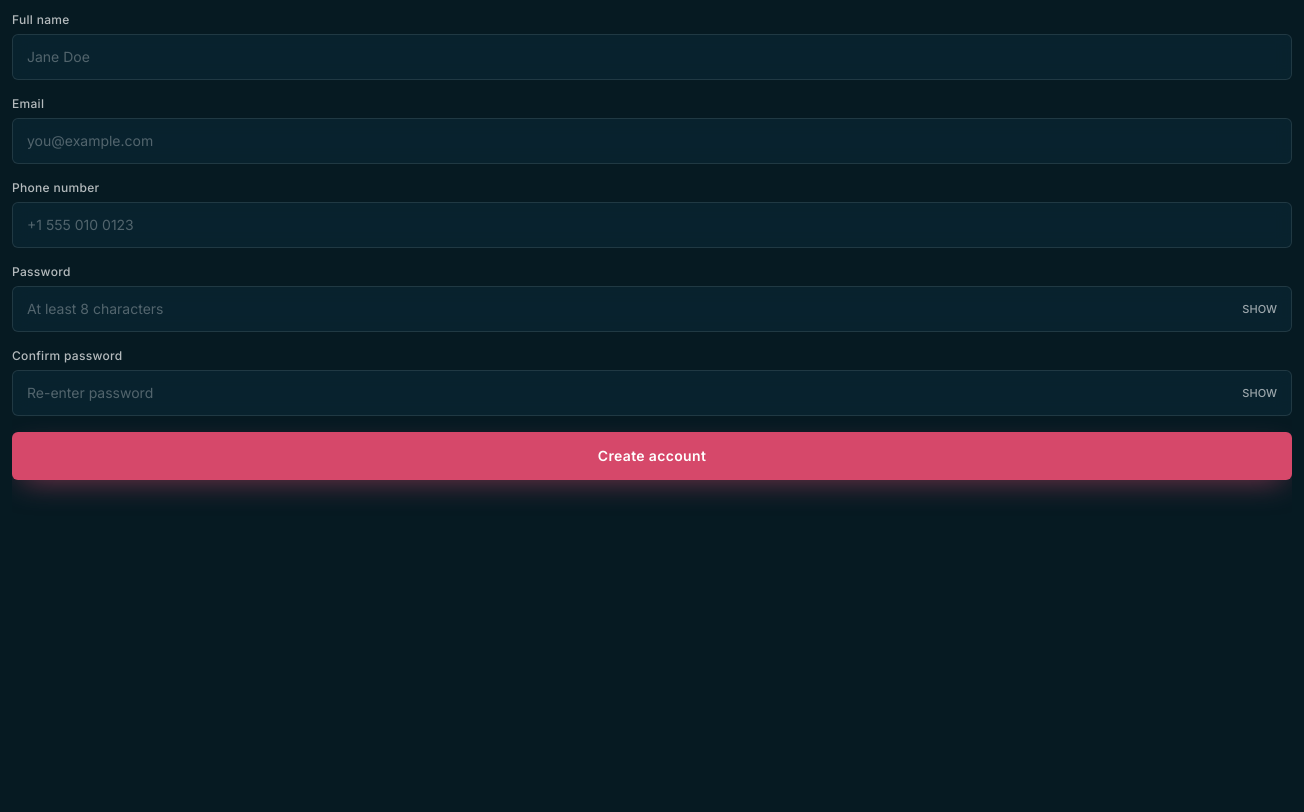
SignUpForm › shows validation errors when submitted with empty fields
Click the button "Create account". click: (652, 456)
box: top-left (12, 432), bottom-right (1292, 480)
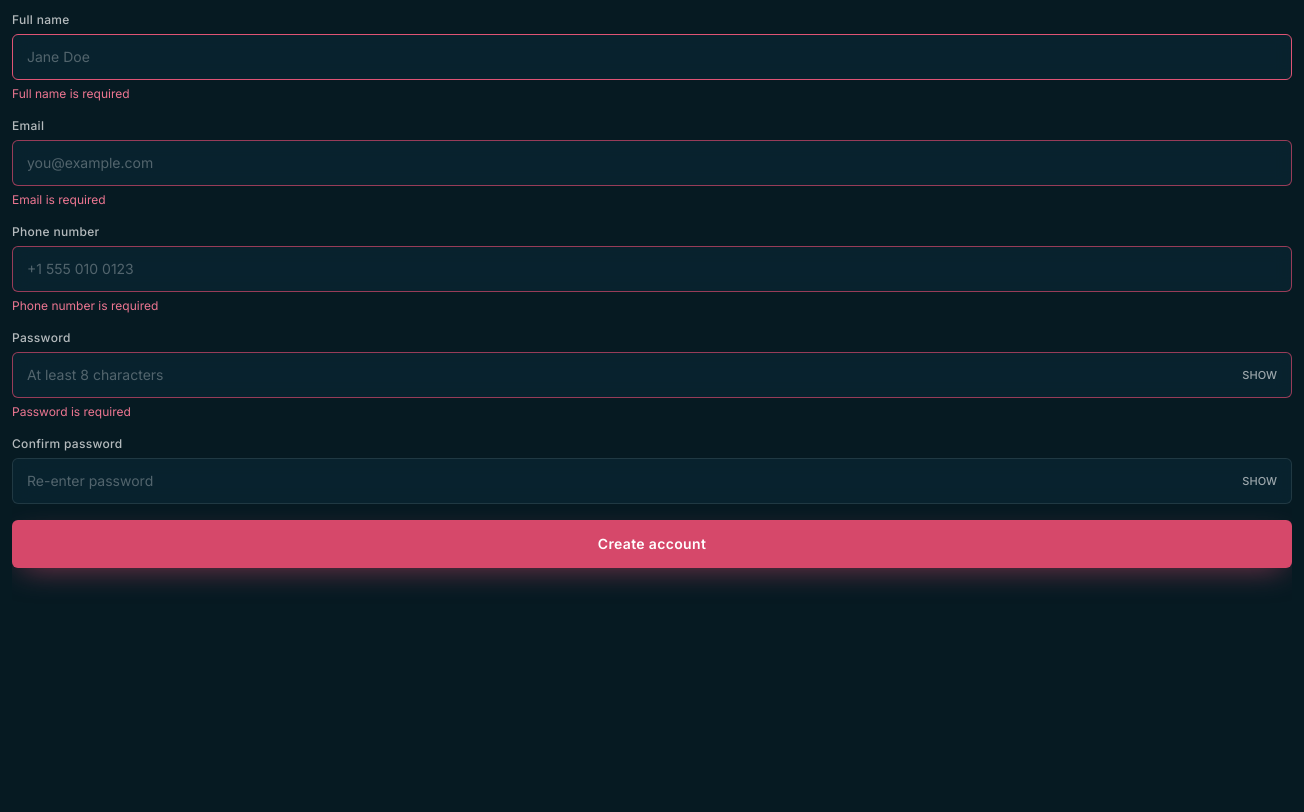
Expected: the text "Full name is required" is shown, top-left (12, 86), bottom-right (130, 101)
Expected: the text "Email is required" is shown, top-left (12, 192), bottom-right (106, 207)
Expected: the text "Phone number is required" is shown, top-left (12, 298), bottom-right (158, 313)
